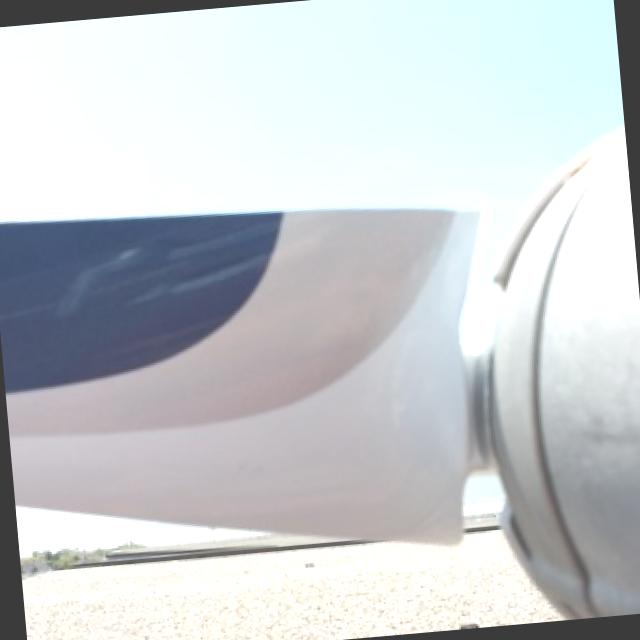healthy: (0, 131, 640, 617)
